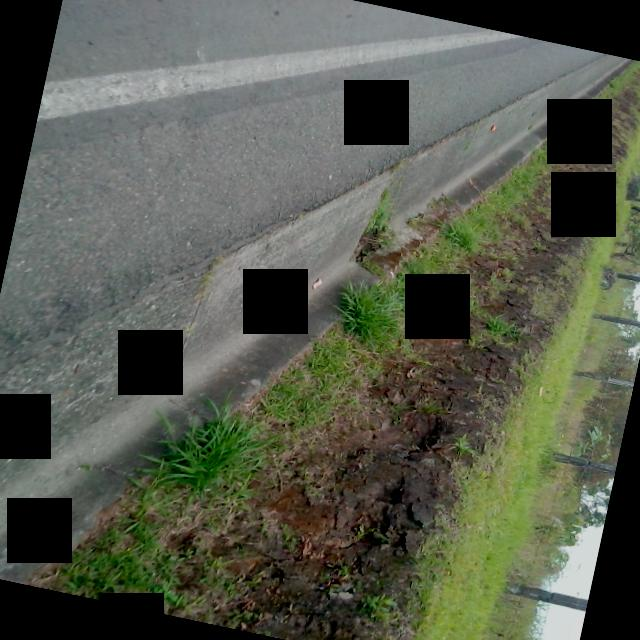DITCH: (0, 0, 636, 640), (0, 0, 633, 640)
